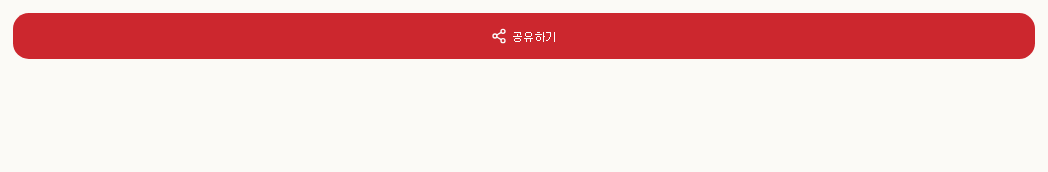
ShareButton › 복사가 막히면 링크를 직접 복사할 수 있게 보여 준다
The width and height of the screenshot is (1048, 172).
Click the button "공유하기" at [524, 36], box x1=12 y1=12 x2=1036 y2=60
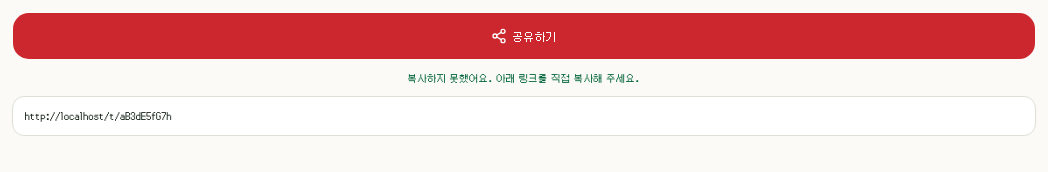
Expected: the text "복사하지 못했어요. 아래 링크를 직접 복사해 주세요." is shown, x1=408 y1=68 x2=640 y2=88
